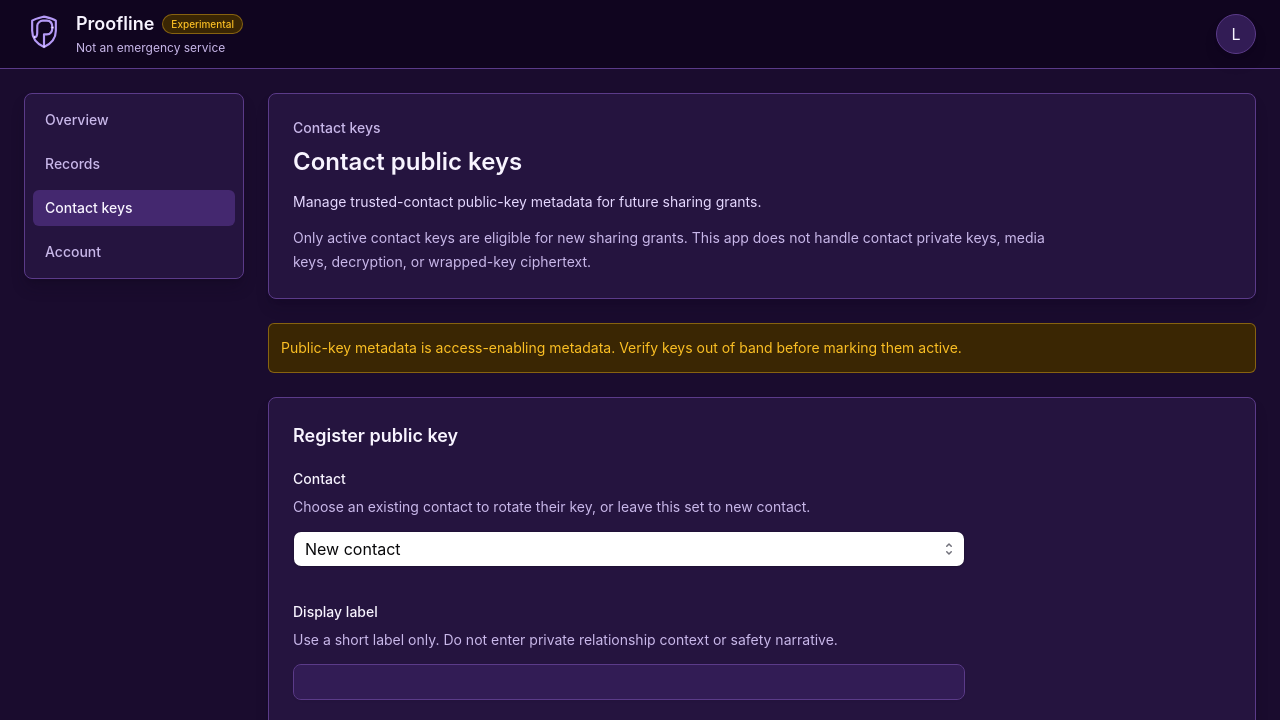
Scenario: creates live contact public keys without displaying private fields
expect the heading "Contact public keys" is shown: met, box [293,147,522,176]
Type "Trusted contact" into the field labelled "Display label".
click(629, 682); type("Trusted contact")  # box [293,664,965,700]
(page scrolled)
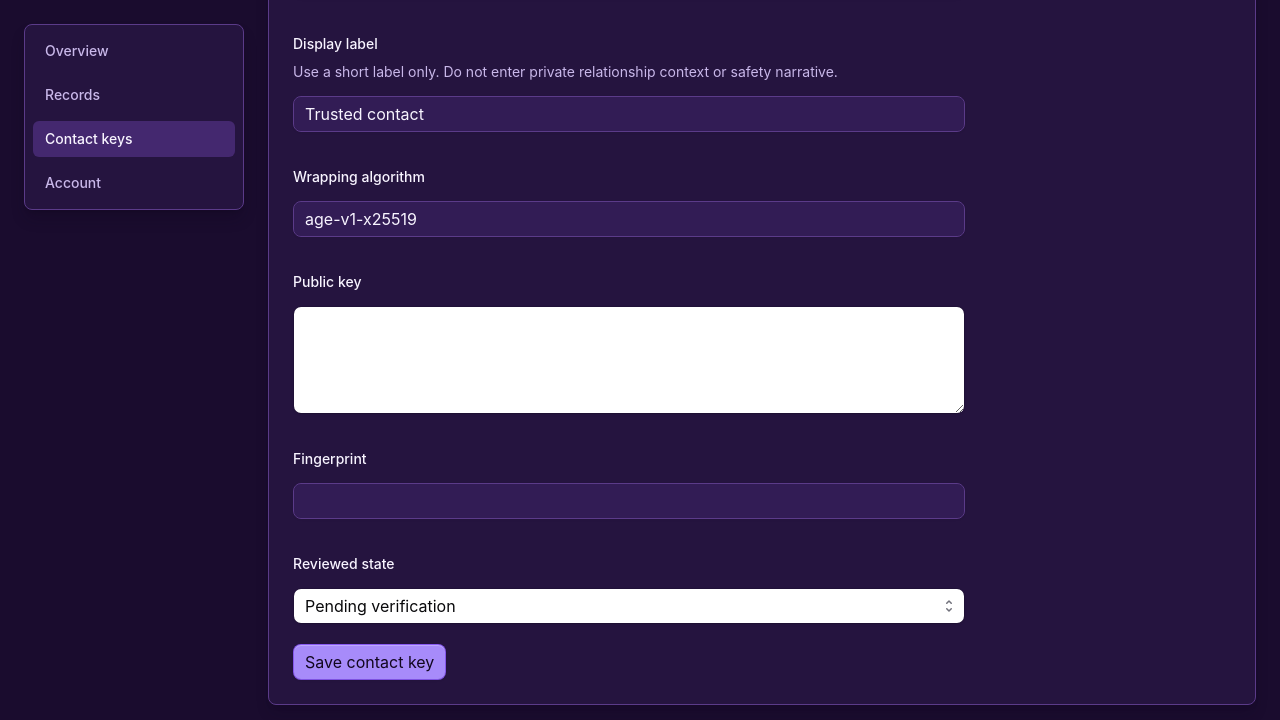
Type "age1public" into the text box labelled "Public key".
click(629, 360); type("age1public")  # box [293,306,965,414]
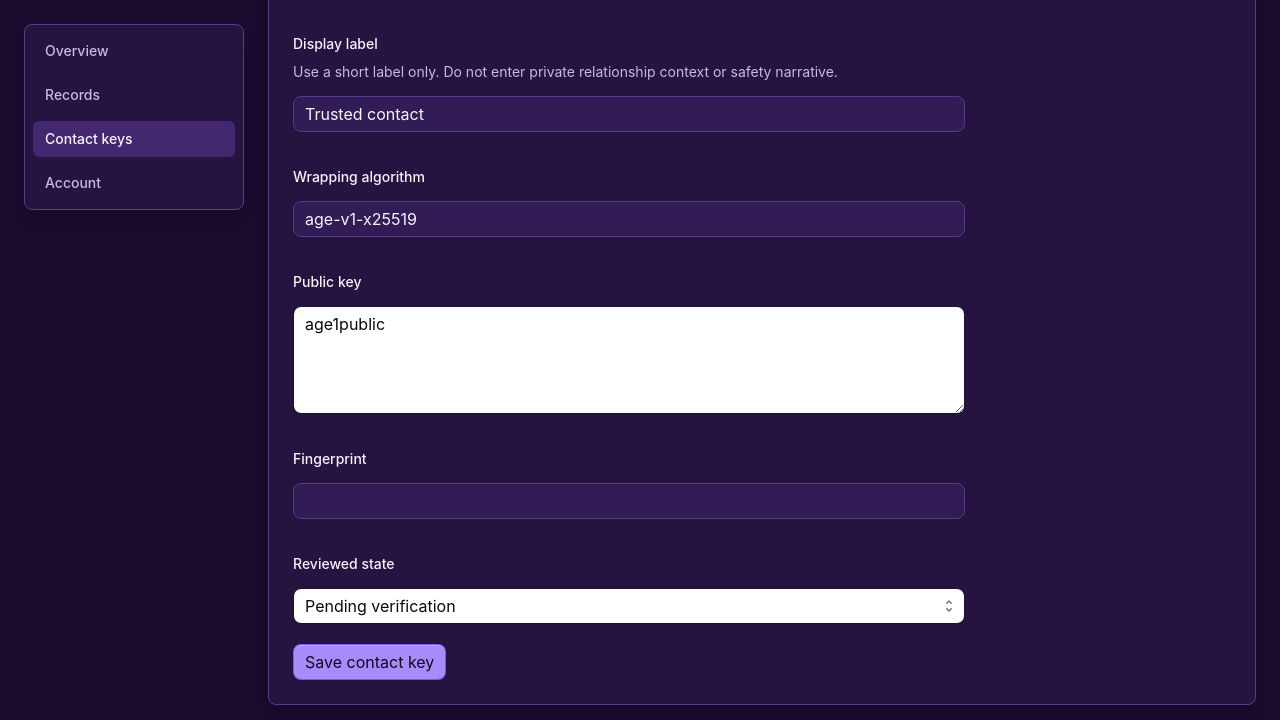
Type "fingerprint-live" into the field labelled "Fingerprint".
click(629, 501); type("fingerprint-live")  # box [293,483,965,519]
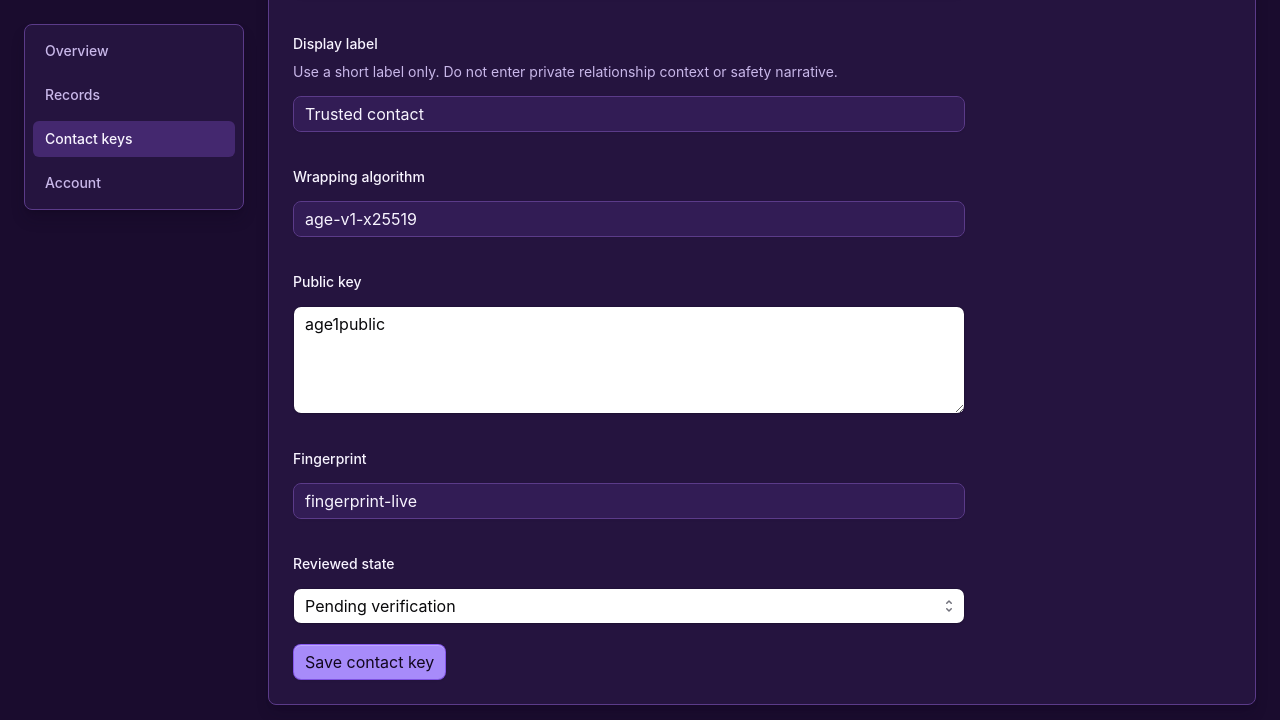
Click the button "Save contact key".
click(370, 662)  # box [293,644,446,680]
(page scrolled)
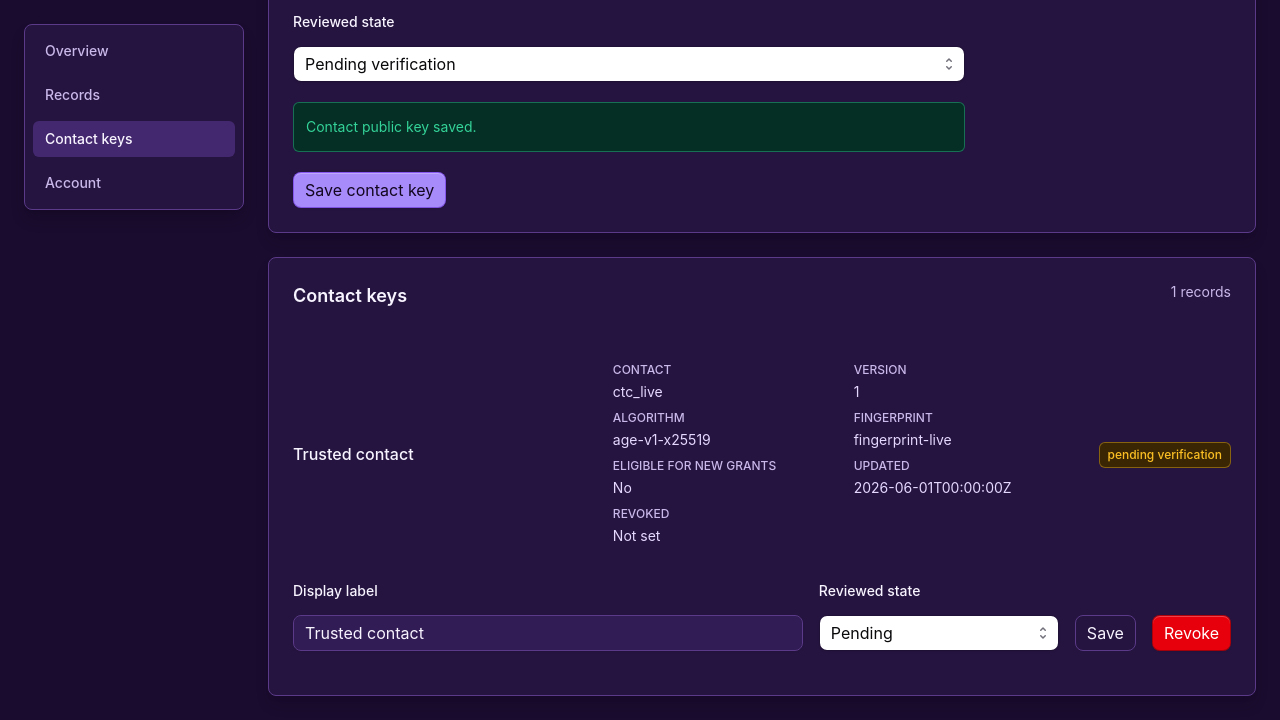
expect the text "Contact public key saved." is shown: met, box [293,102,965,152]
expect the text "fingerprint-live" is shown: met, box [854,431,952,448]
